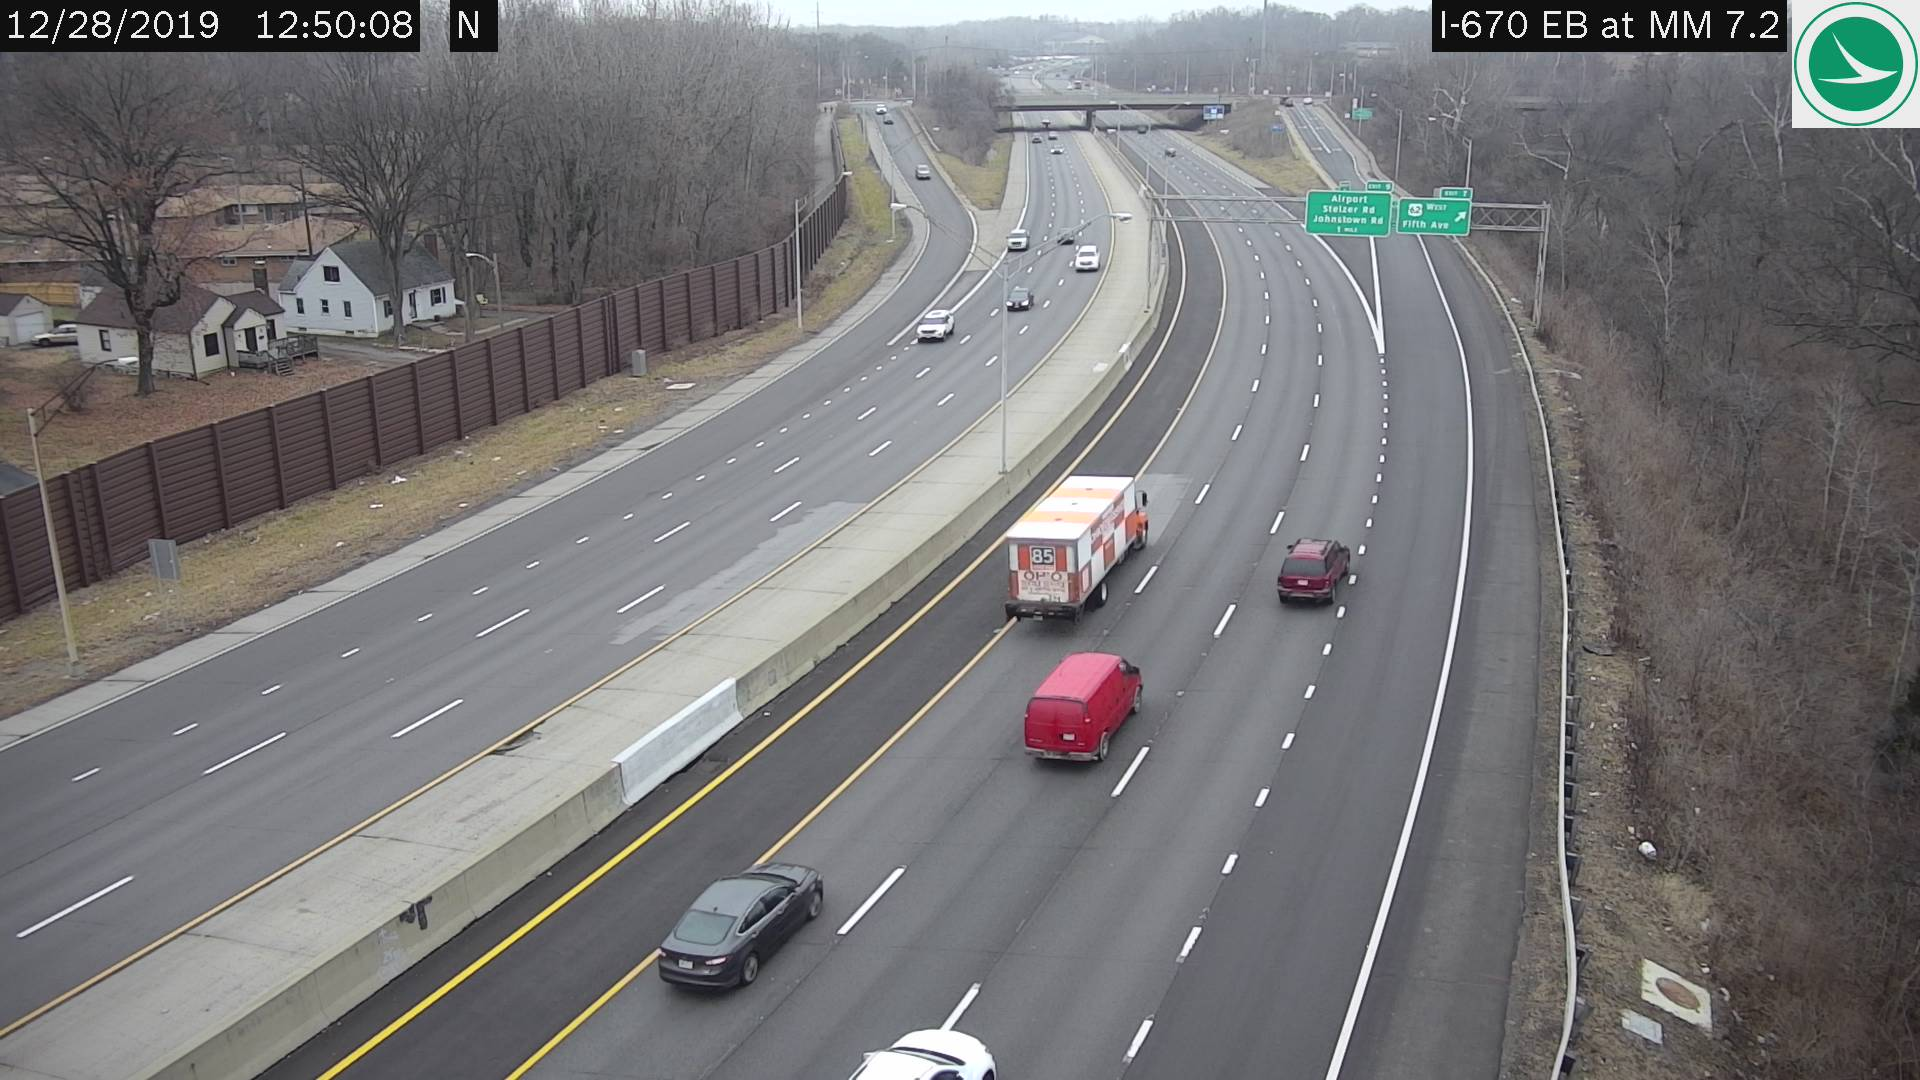car: (658, 856, 822, 992), (1006, 472, 1142, 624), (1026, 651, 1146, 767), (851, 1029, 990, 1072), (1278, 535, 1346, 600), (918, 309, 953, 340), (1005, 284, 1033, 310), (1073, 245, 1098, 272), (1005, 227, 1026, 251), (913, 161, 931, 179)
